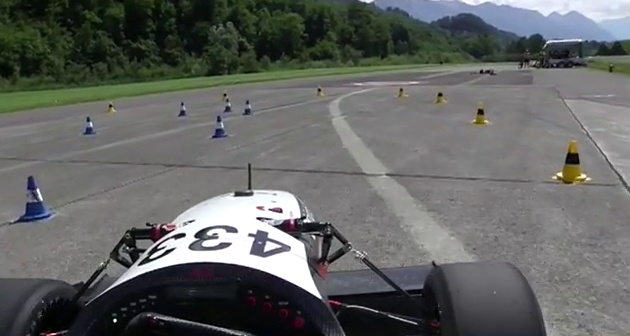Cone: (549, 138, 594, 185), (19, 171, 58, 224), (472, 98, 492, 127), (211, 114, 232, 141), (83, 114, 99, 135), (434, 85, 450, 105), (177, 101, 192, 119), (242, 99, 256, 118), (223, 97, 236, 114)
